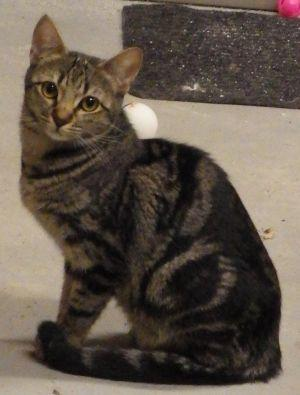bengal: (21, 10, 149, 149)
